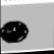correct: (0, 10, 32, 46)
